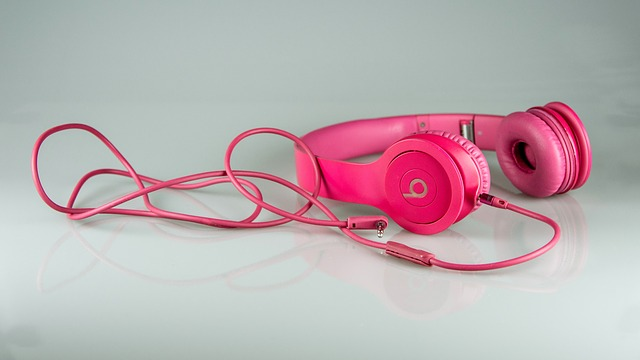headphones: (295, 102, 592, 235)
